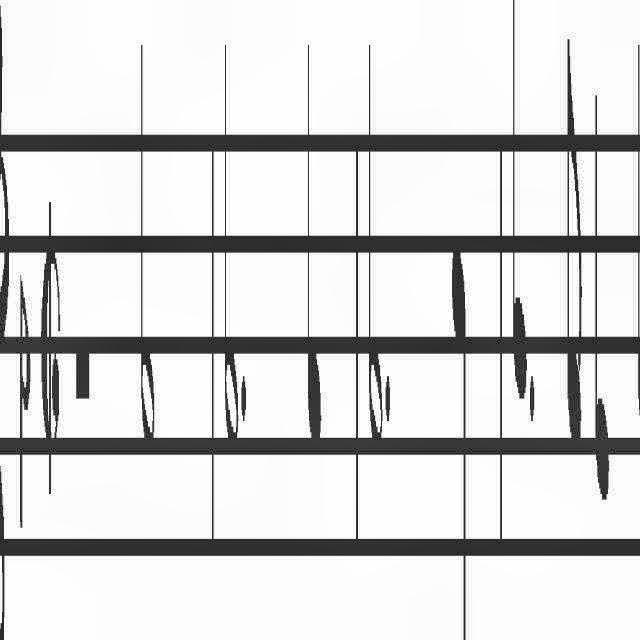Bass-clef: (0, 0, 12, 640)
Bemol: (14, 237, 34, 573)
Eighth-note: (564, 1, 584, 512)
Half-note: (132, 13, 164, 499), (363, 14, 385, 493), (220, 7, 240, 469)
Quarter-note: (441, 208, 473, 640), (589, 61, 615, 538), (303, 55, 325, 509), (512, 0, 528, 466), (634, 28, 640, 488)
